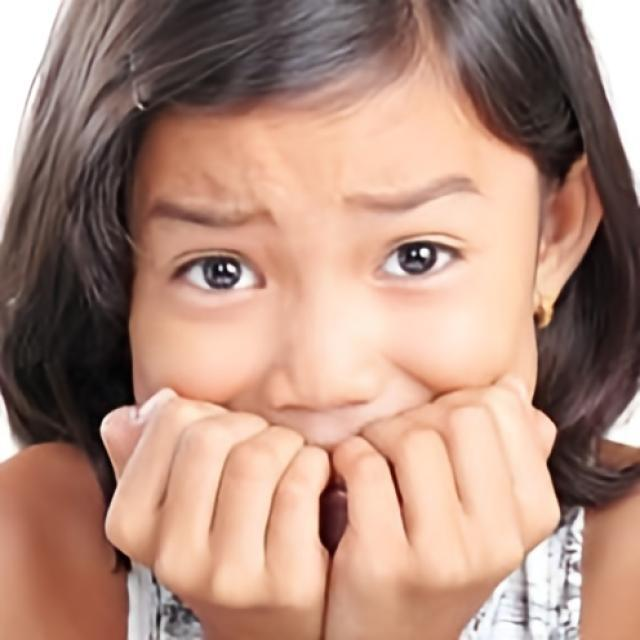fear: (124, 59, 551, 609)
